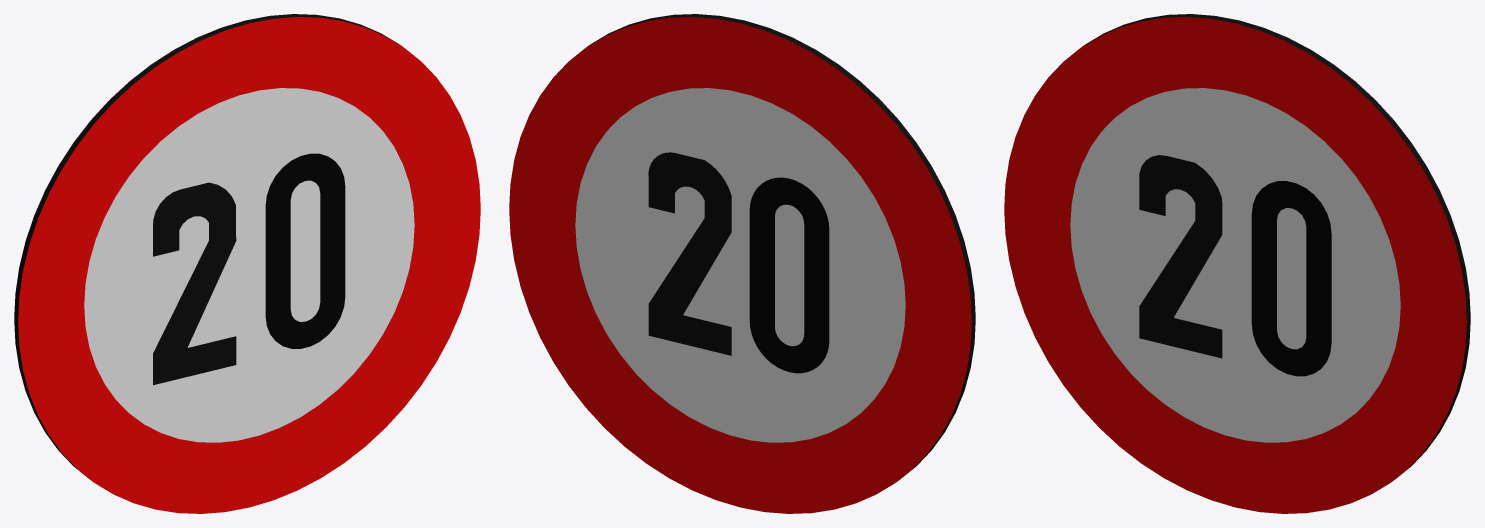
The model's file is p.127_tocdotoidachophep_20.glb.
3 renders of one model, left to right at view 1: azimuth 30°, elevation 25°; view 2: azimuth 150°, elevation 25°; view 3: azimuth 330°, elevation 25°, orthographic.
Parts seen in each view (by area): view 1: Solid1; view 2: Solid1, Solid2; view 3: Solid1.
Boxes of the visible parts, x1=… form: Solid1: x1=14, y1=14, x2=480, y2=513; Solid1: x1=509, y1=14, x2=975, y2=513; Solid2: x1=648, y1=152, x2=829, y2=373; Solid1: x1=1004, y1=14, x2=1470, y2=513.
Size of the model in its own units: 0.7 by 0.7 by 0.0104.
